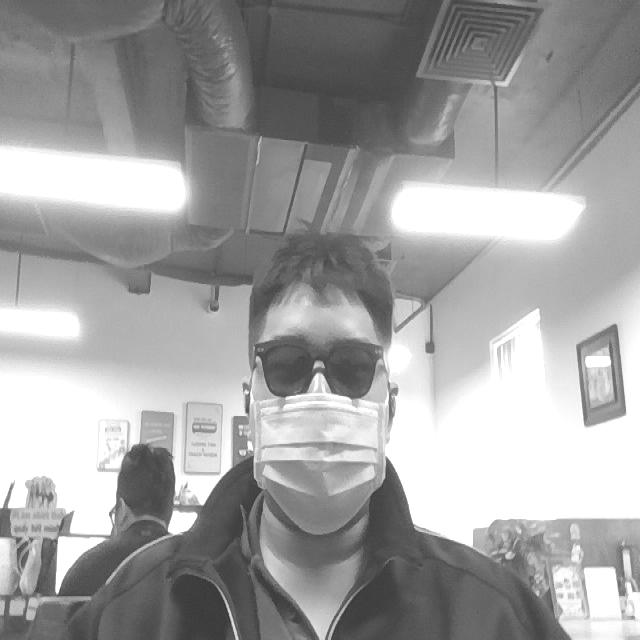fake: (248, 395, 388, 537), (253, 334, 391, 401)
